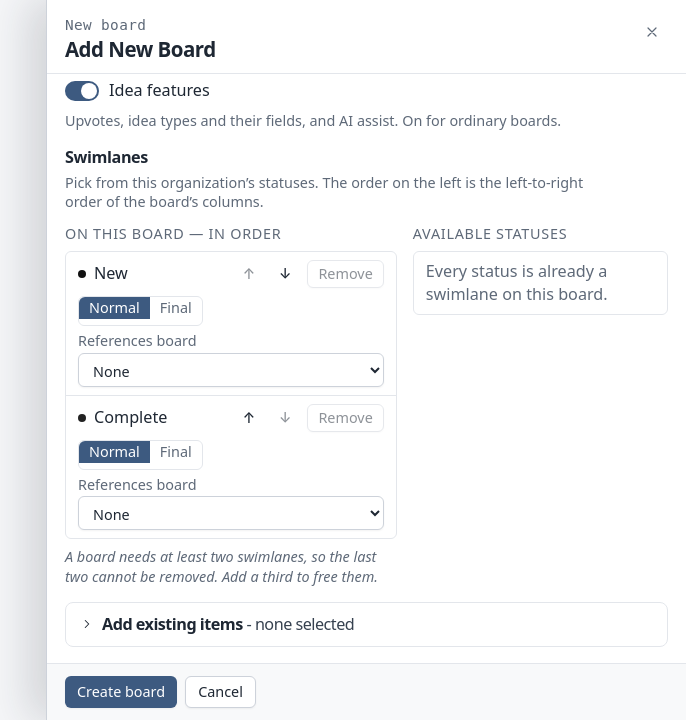
the board drawer pull step by role › gives a User creating a board two tabs and no Backlog Issues
(page scrolled)
Click the button "Add existing items - none selected".
click(172, 624)  # box [66,603,667,646]
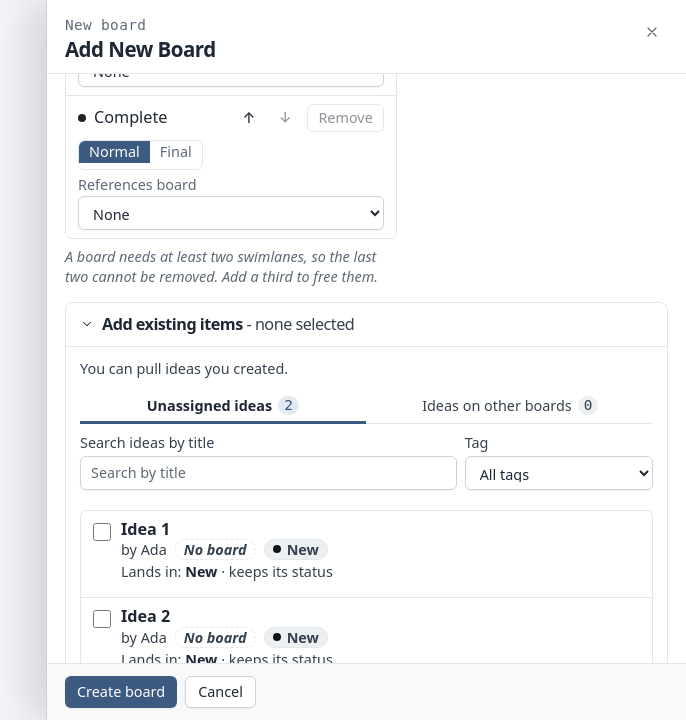
Result: the tab "Unassigned ideas 2" is shown at [80,390,366,424]
Result: the tab "Ideas on other boards 0" is shown at [368,390,653,424]
